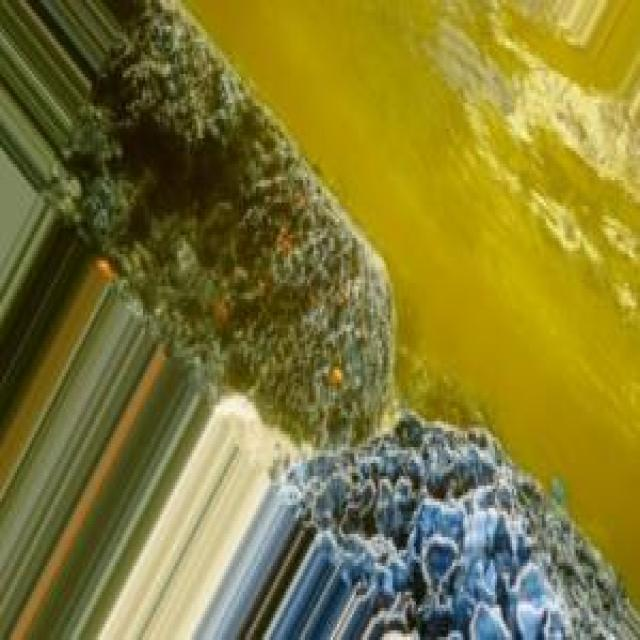Healthy: (64, 5, 394, 446), (269, 412, 640, 640)
